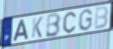A: (12, 18, 30, 43)
B: (45, 12, 61, 39), (94, 5, 109, 30)
C: (63, 11, 77, 34)
G: (77, 8, 93, 32)
K: (31, 16, 44, 39)
